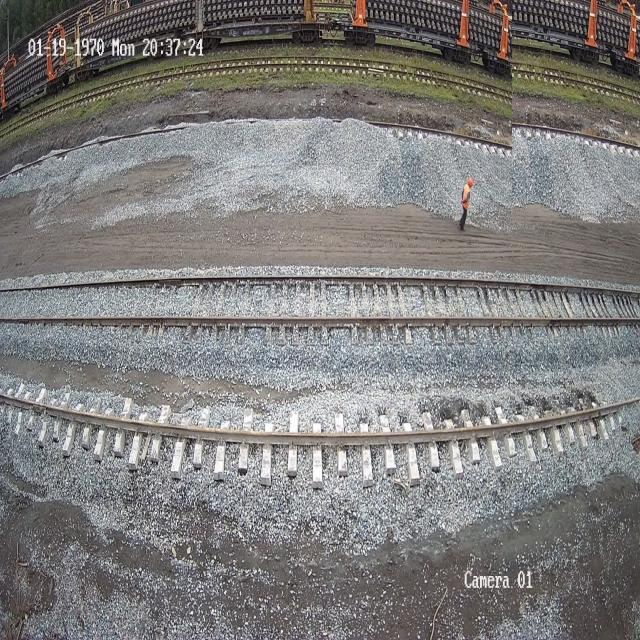Helmet: (468, 178, 473, 187)
Person: (459, 177, 473, 231)
